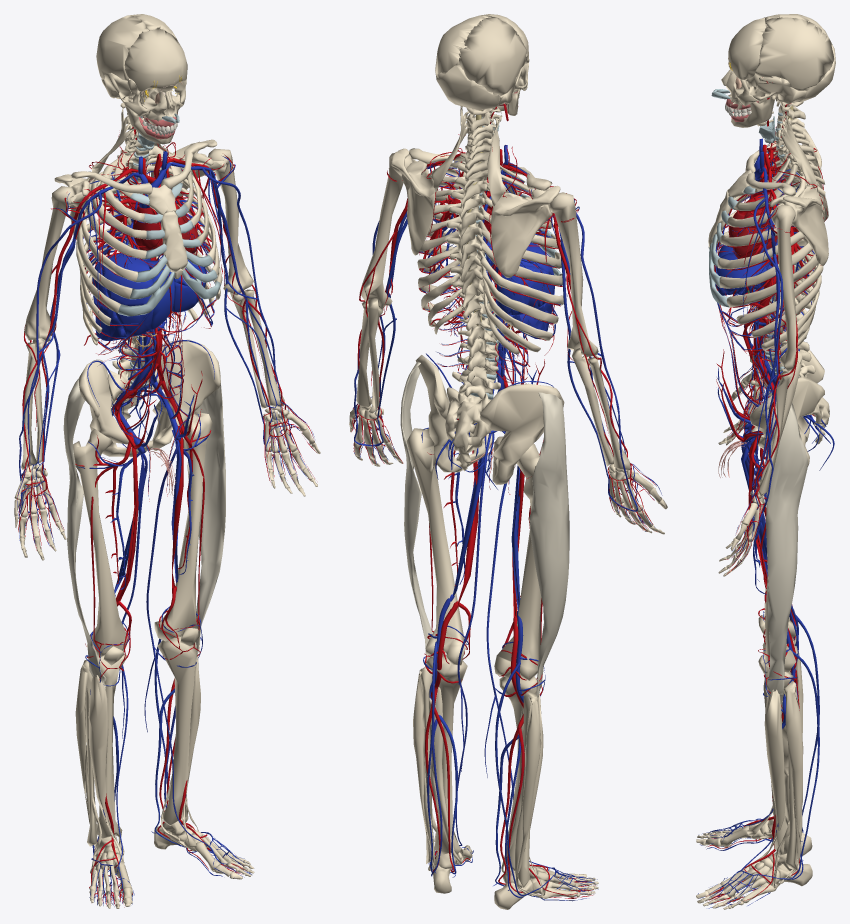
The model's file is m-vessels.glb.
3 views of the same model, side by side, from view 1: azimuth 30°, elevation 25°; view 2: azimuth 150°, elevation 25°; view 3: azimuth 270°, elevation 25° (orthographic). The views are drawn at different scales.
Parts seen in each view (by area): view 1: bone, vein, artery, heart; view 2: bone, vein, artery; view 3: bone, vein, artery, heart.
Boxes of the visible parts, left/top/right/bottom form: bone: left=14, top=14, right=320, bottom=908; vein: left=17, top=151, right=314, bottom=906; artery: left=17, top=126, right=316, bottom=907; heart: left=131, top=205, right=198, bottom=255; bone: left=349, top=14, right=667, bottom=909; vein: left=353, top=145, right=662, bottom=901; artery: left=352, top=103, right=656, bottom=898; bone: left=696, top=14, right=835, bottom=909; vein: left=698, top=138, right=834, bottom=908; artery: left=706, top=77, right=827, bottom=904; heart: left=728, top=209, right=777, bottom=258.
Size of the model in its own units: 0.6471 by 1.71 by 0.2538.
